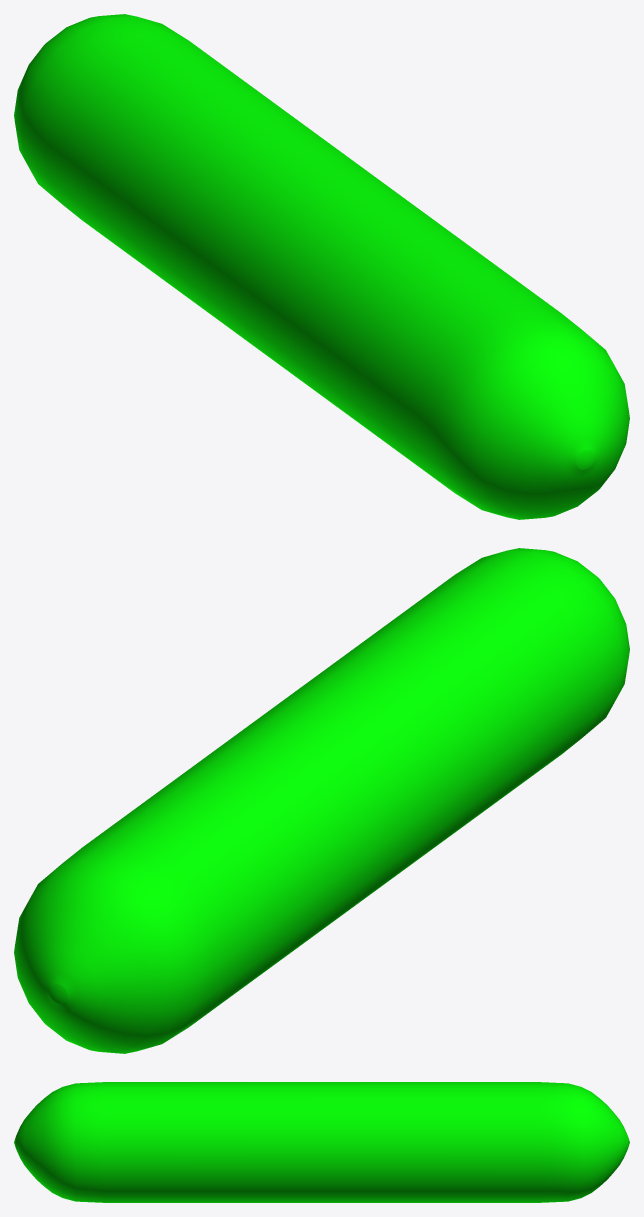
The model's file is ammo1.obj.
The picture shows the model from 3 angles, top to bottom: view 1: azimuth 30°, elevation 25°; view 2: azimuth 150°, elevation 25°; view 3: azimuth 270°, elevation 25°; orthographic projection. The views are drawn at different scales.
Visible parts, largest first — view 1: ammo_1; view 2: ammo_1; view 3: ammo_1.
Part boxes in pixels (x1,y1,x2,y2): ammo_1: [14, 14, 629, 519]; ammo_1: [14, 548, 629, 1053]; ammo_1: [14, 1082, 629, 1202].
Size of the model in its own units: 0.1411 by 0.1411 by 0.7138.
